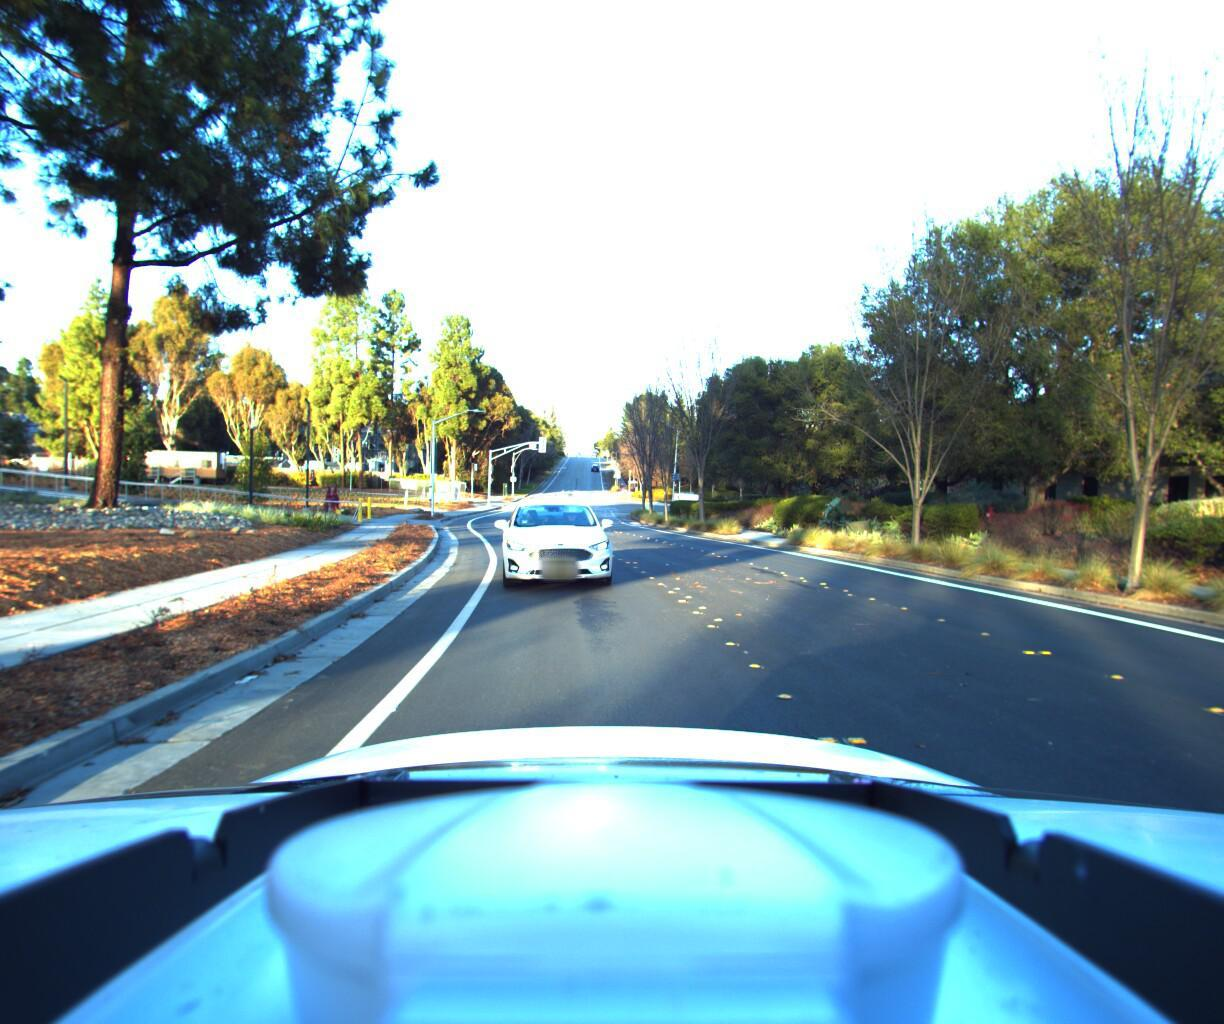car: (492, 487, 633, 610)
